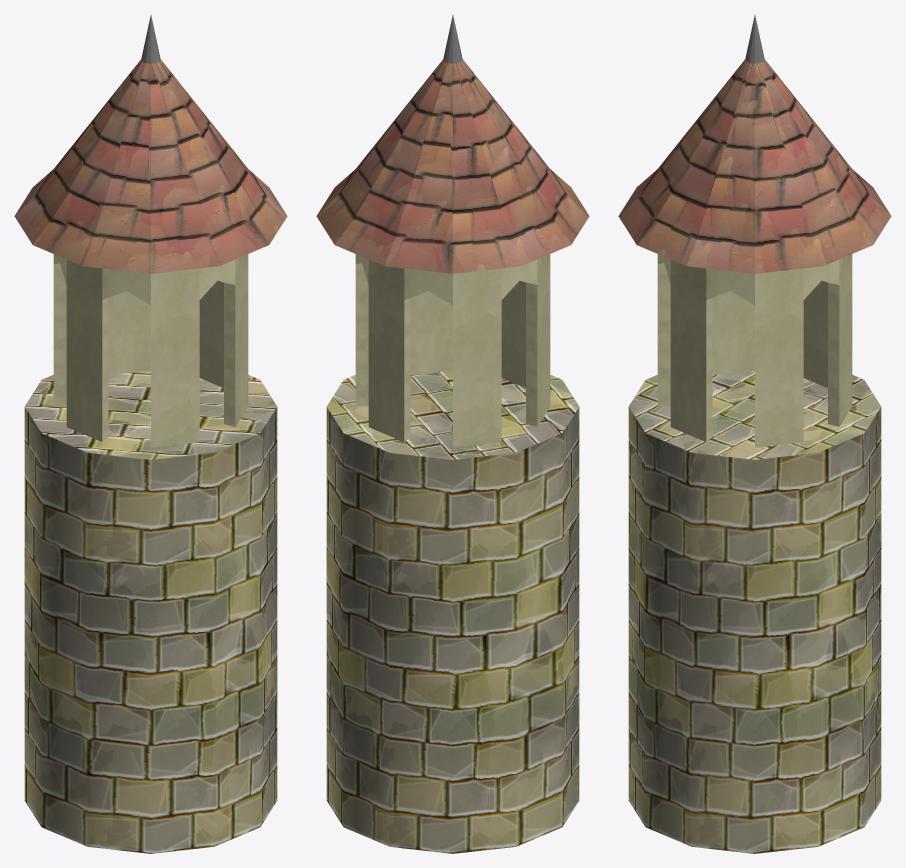
File: tower1.fbx
3 views of the same model, side by side, from view 1: azimuth 30°, elevation 25°; view 2: azimuth 150°, elevation 25°; view 3: azimuth 270°, elevation 25° (orthographic).
Parts seen in each view (by area): view 1: Cylinder001; view 2: Cylinder001; view 3: Cylinder001.
Boxes of the visible parts, bbox=[...] form: Cylinder001: bbox=[14, 15, 287, 853]; Cylinder001: bbox=[316, 15, 589, 853]; Cylinder001: bbox=[618, 15, 891, 853].
Size of the model in its own units: 119 by 379 by 119.
